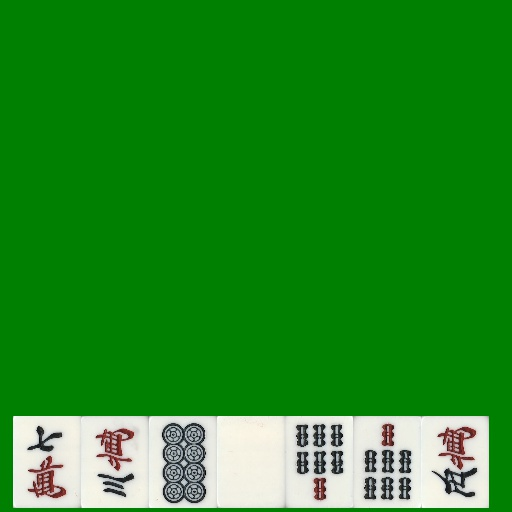3m: (81, 416, 149, 508)
5m: (421, 416, 489, 508)
7m: (13, 416, 81, 508)
7s: (285, 416, 353, 508), (353, 416, 421, 508)
8p: (149, 416, 217, 508)
white: (217, 416, 285, 508)
